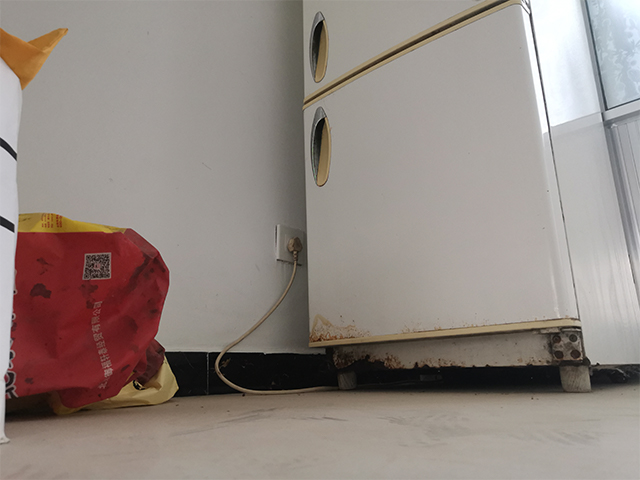wire: (213, 237, 309, 396)
